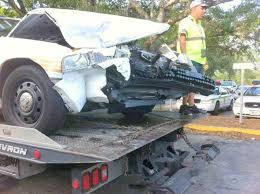Bonnet: (7, 8, 167, 48)
Bumper: (57, 67, 219, 112)
